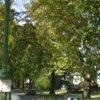Tree: (19, 5, 100, 72)
